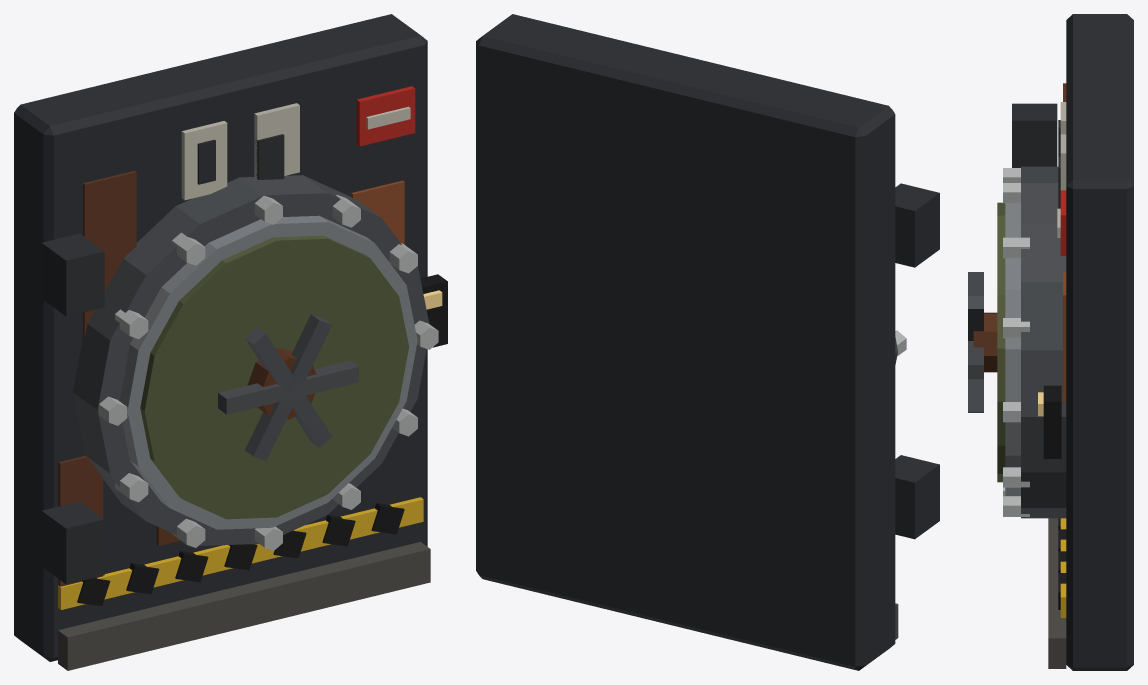
Rendered from lmk_boss_vault.fbx.
3 views of the same model, side by side, from view 1: azimuth 30°, elevation 25°; view 2: azimuth 150°, elevation 25°; view 3: azimuth 270°, elevation 25° (orthographic). The views are drawn at different scales.
Parts seen in each view (by area): view 1: lmk_boss_vault; view 2: lmk_boss_vault; view 3: lmk_boss_vault.
Part boxes in pixels (<box>): lmk_boss_vault: <box>14,14,447,670</box>; lmk_boss_vault: <box>476,14,939,670</box>; lmk_boss_vault: <box>968,14,1133,670</box>.
Bounding box in the file's own units: 1.87 × 2.4 × 0.735.
